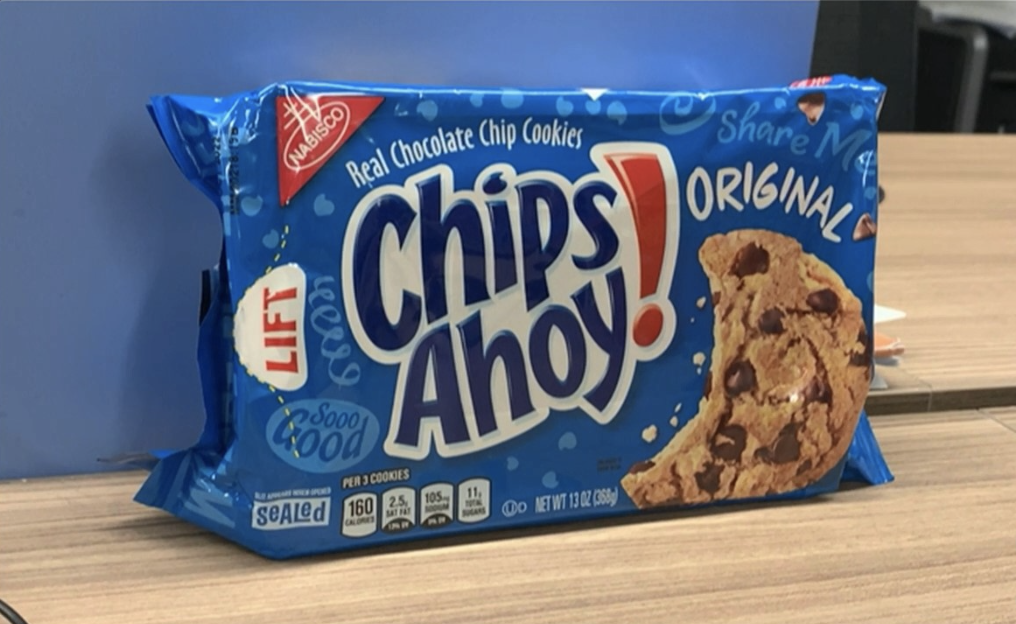cookies_150g: (250, 130, 848, 497)
